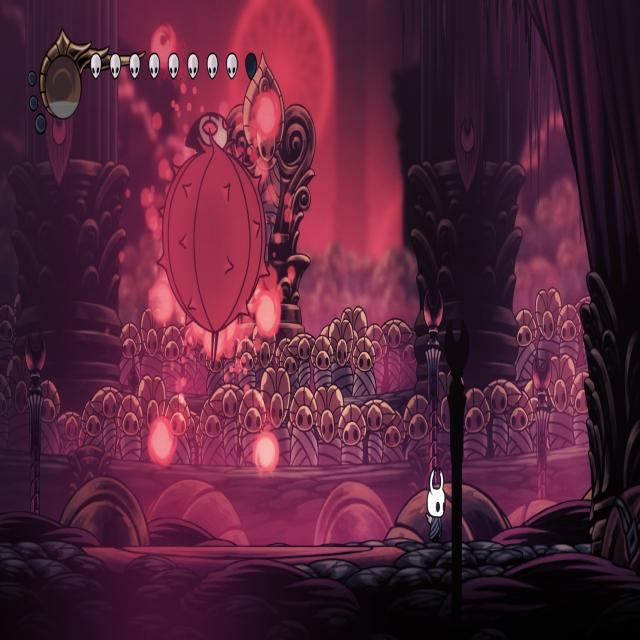Player: (423, 461, 447, 545)
Pufferfish: (157, 105, 274, 370)
Tiny Fireballs: (253, 90, 283, 146), (149, 418, 177, 468), (253, 289, 280, 340), (149, 280, 173, 324), (255, 433, 280, 473)
